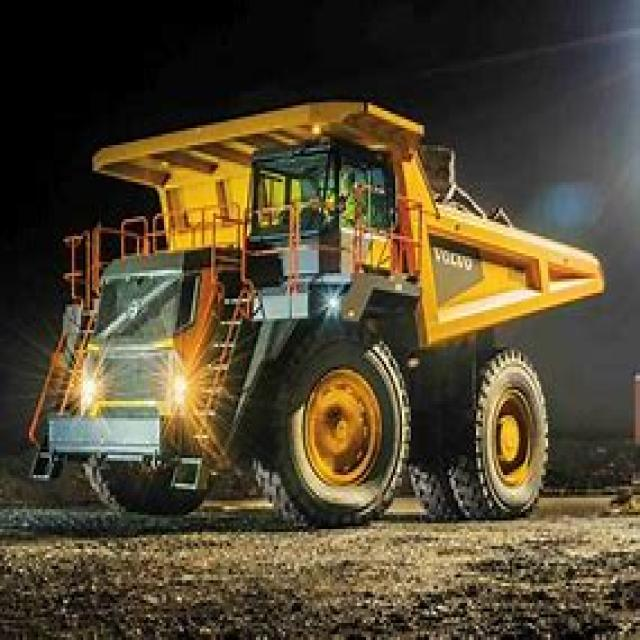dump_truck: (20, 77, 611, 529)
